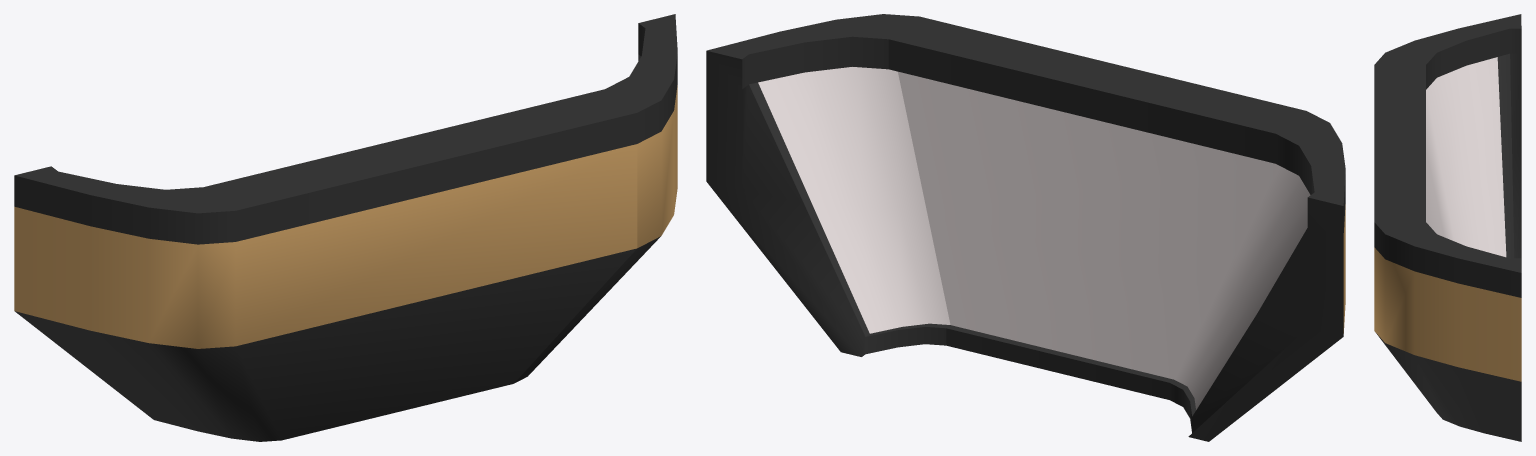
File: LightWall3.fbx
3 views of the same model, side by side, from view 1: azimuth 30°, elevation 25°; view 2: azimuth 150°, elevation 25°; view 3: azimuth 270°, elevation 25° (orthographic). The views are drawn at different scales.
Parts seen in each view (by area): view 1: LightWall3; view 2: LightWall3; view 3: LightWall3.
Boxes of the visible parts, <box> form: LightWall3: <box>14,14,677,441</box>; LightWall3: <box>706,14,1345,441</box>; LightWall3: <box>1374,14,1521,441</box>.
Bounding box in the file's own units: 44.32 × 17.85 × 10.65.
